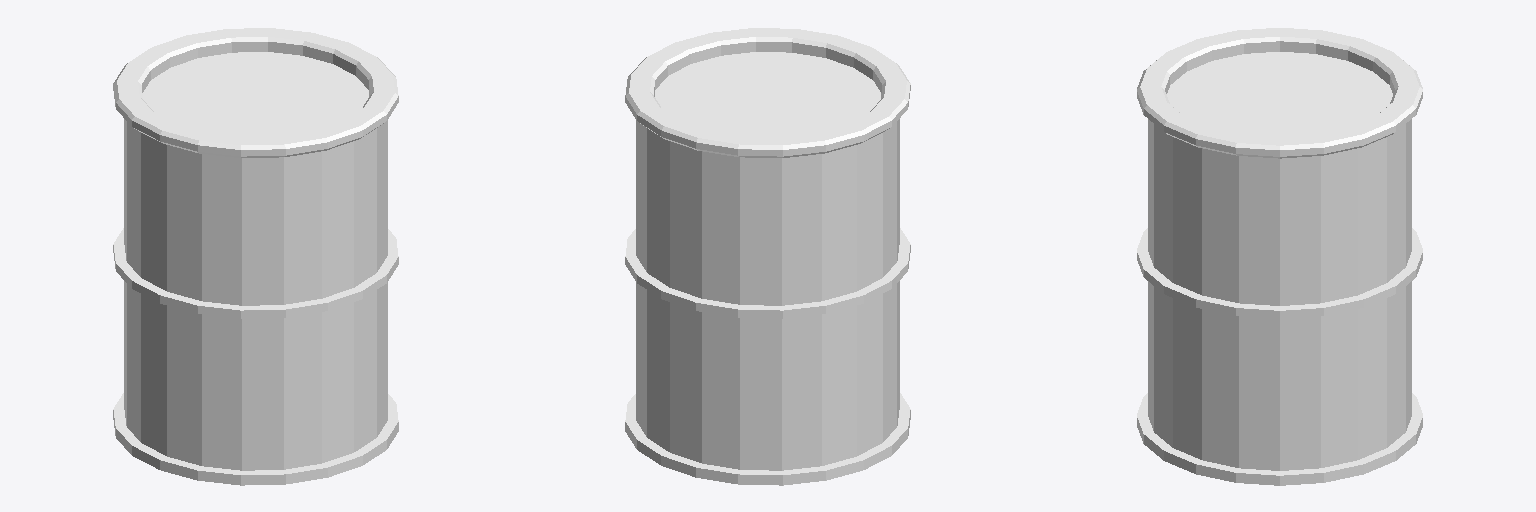
The model's file is barrel_biege.obj.
The picture shows the model from 3 angles: view 1: azimuth 30°, elevation 25°; view 2: azimuth 150°, elevation 25°; view 3: azimuth 270°, elevation 25°; orthographic projection.
Parts seen in each view (by area): view 1: pCylinder1; view 2: pCylinder1; view 3: pCylinder1.
Boxes of the visible parts, x1=… form: pCylinder1: x1=113, y1=28, x2=398, y2=485; pCylinder1: x1=625, y1=28, x2=910, y2=485; pCylinder1: x1=1137, y1=28, x2=1422, y2=485.
Size of the model in its own units: 2.17 by 2.82 by 2.17.